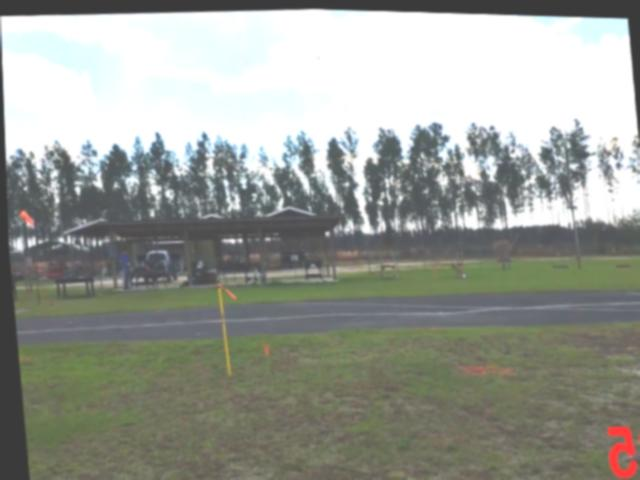plane: (311, 51, 323, 59)
